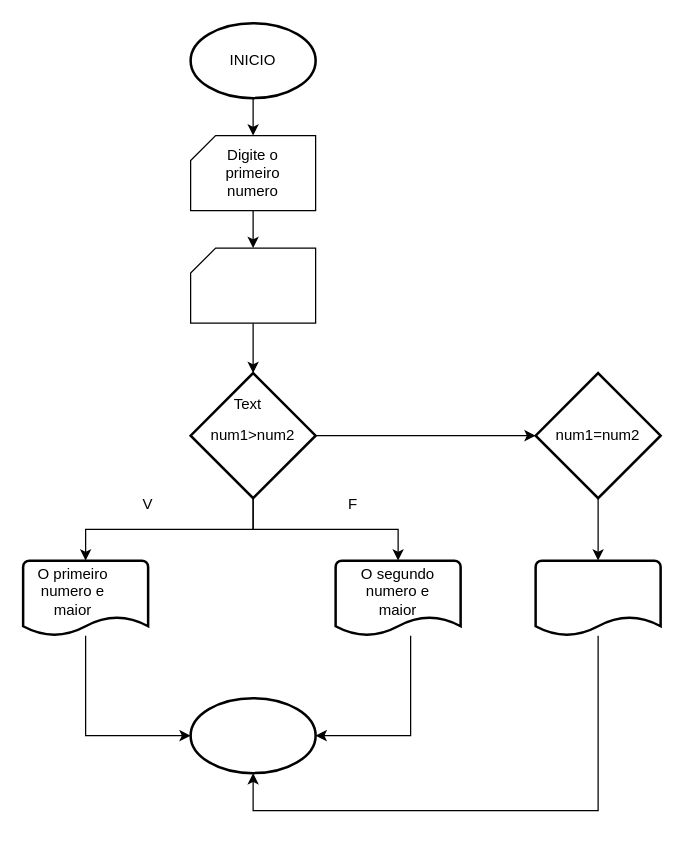
The diagram is 683 pixels wide and 843 high, and some of its shapes have lost their labels. Here are the shapes that lost their labels. From the top down, the centre of each, then its label:
the point at 252,285: Digite o segundo numero
the point at 597,597: Os numeros sao iguais
the point at 252,735: FIM
